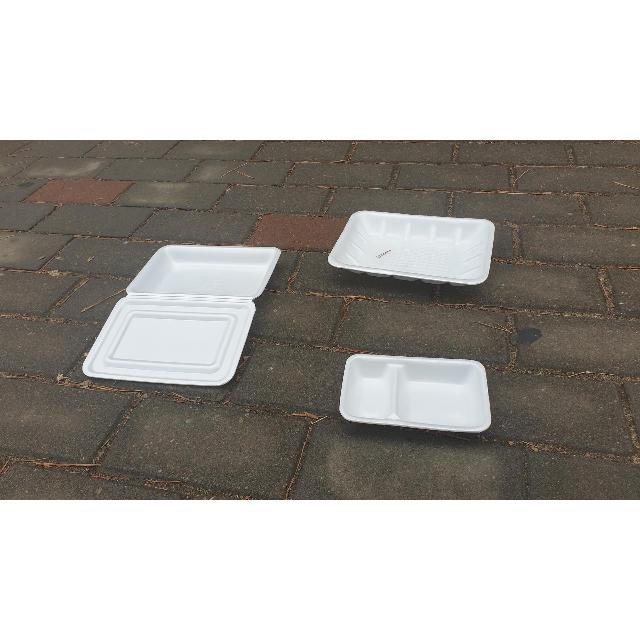Recipiente plastico: (82, 246, 280, 386), (329, 211, 495, 284), (339, 354, 491, 432)
